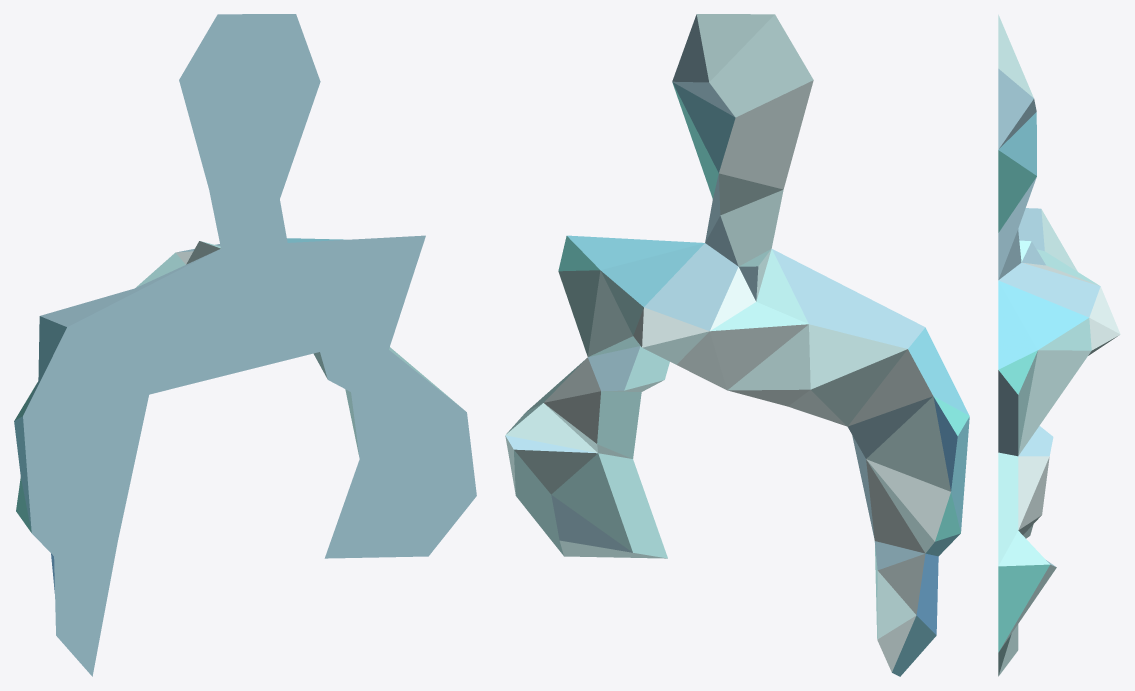
The model's file is winter_mountain_3.fbx.
3 renders of one model, left to right at view 1: azimuth 30°, elevation 25°; view 2: azimuth 150°, elevation 25°; view 3: azimuth 270°, elevation 25°, orthographic. The views are drawn at different scales.
Visible parts, largest first — view 1: winter_mountain_3; view 2: winter_mountain_3; view 3: winter_mountain_3.
Part boxes in pixels (<box>): winter_mountain_3: <box>14,14,476,676</box>; winter_mountain_3: <box>505,14,969,676</box>; winter_mountain_3: <box>998,14,1120,676</box>.
Bounding box in the file's own units: 663 × 883 × 163.
